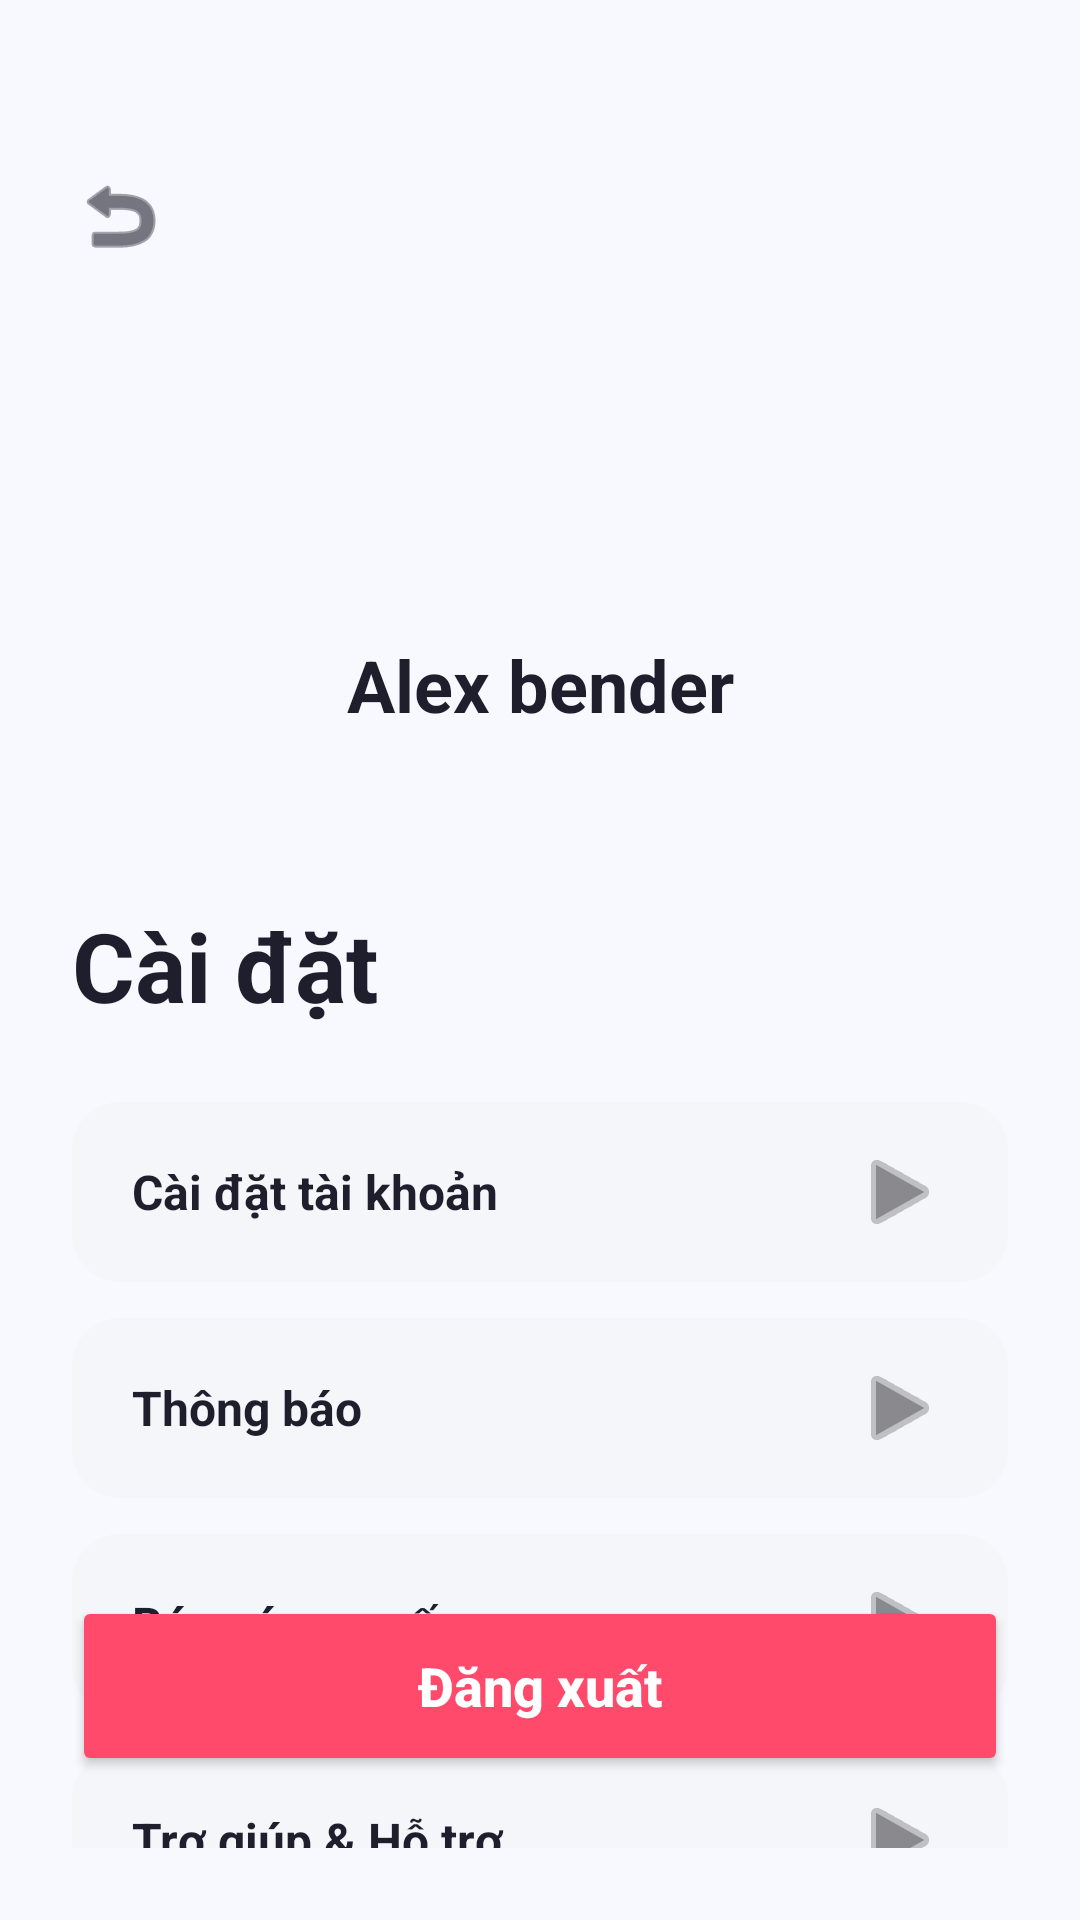

Locate icon controls on the screen. Image size 1080px×1920px, boxes as {"left": x1, "top": y1, "right": x2, "bottom": y2}.
Quay lại: {"left": 87, "top": 185, "right": 156, "bottom": 248}
